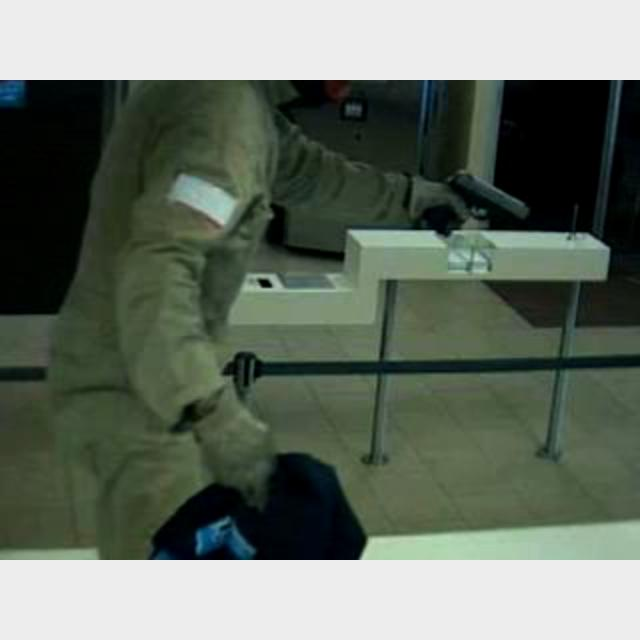criminal: (47, 80, 533, 560)
weapon: (422, 168, 532, 238)
